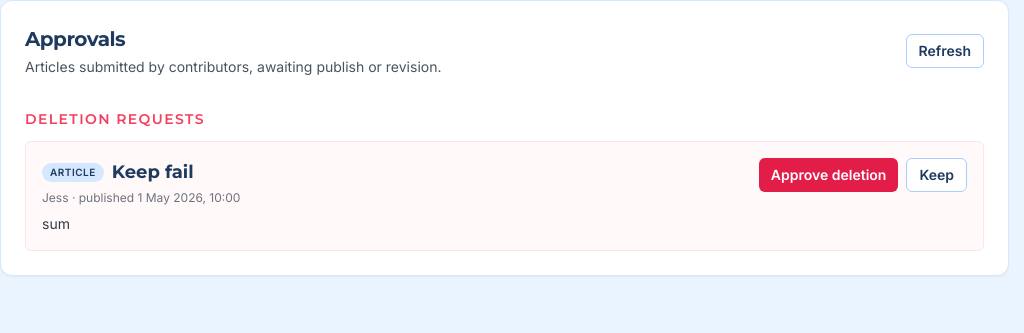
ApprovalsQueue › shows an error when keepArticle returns non-ok
Click the button "Keep": point(937, 175) [906,158,967,192]
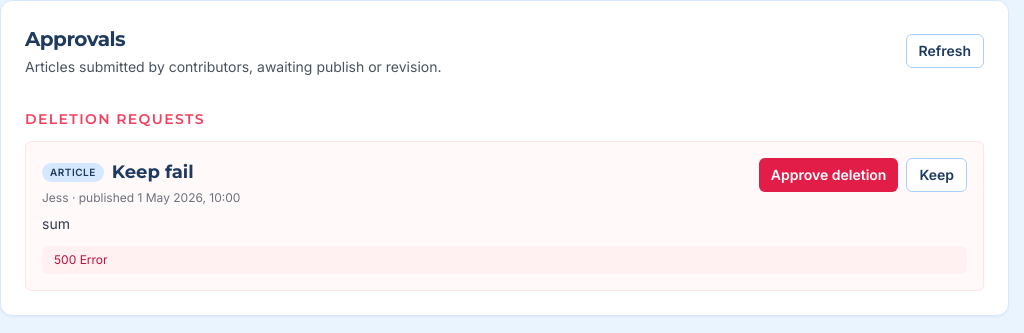
Result: the text "500" is shown at [54,252,108,267]
